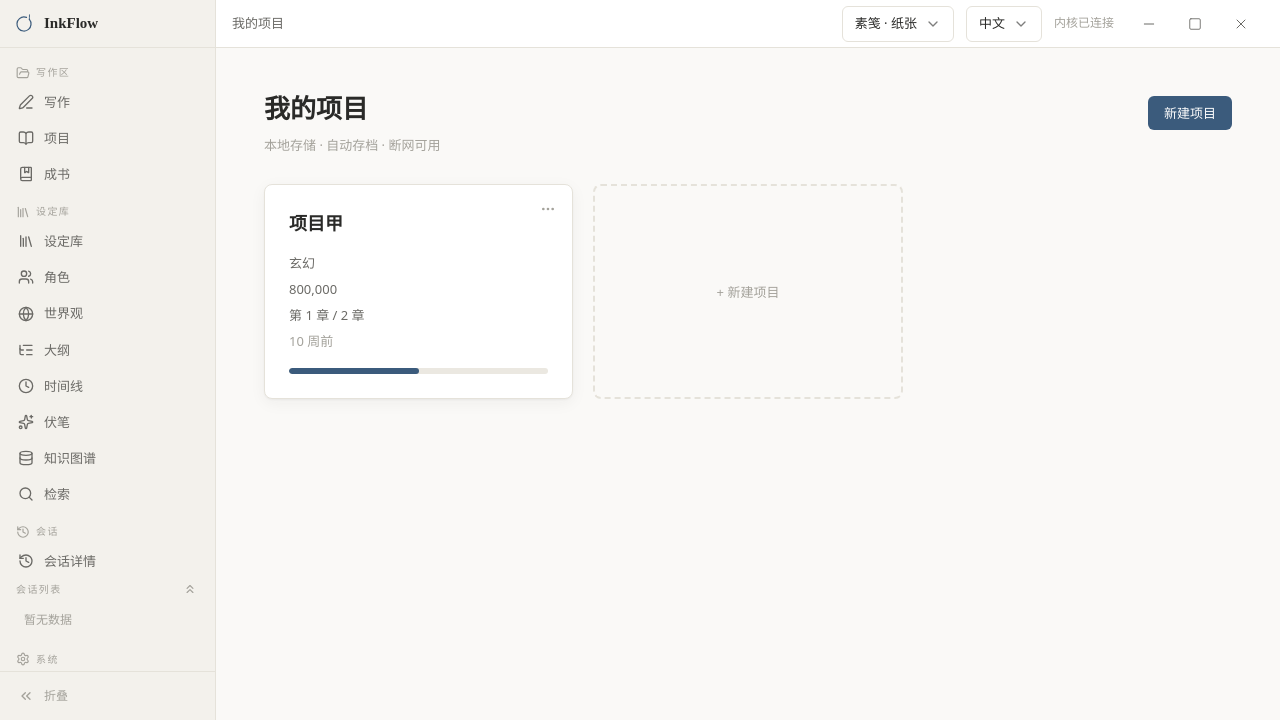
Scenario: App 路由集成（HashRouter 四页 + 侧边导航） › 侧边导航「写作」→ 写作页：三栏 + 项目树卷/章渲染
The image size is (1280, 720).
Note: 写作页挂载后加载当前项目卷章树（契约：写作页挂载自动 loadChapterTree）
Click the link "写作": (44, 102) [18, 93, 70, 111]
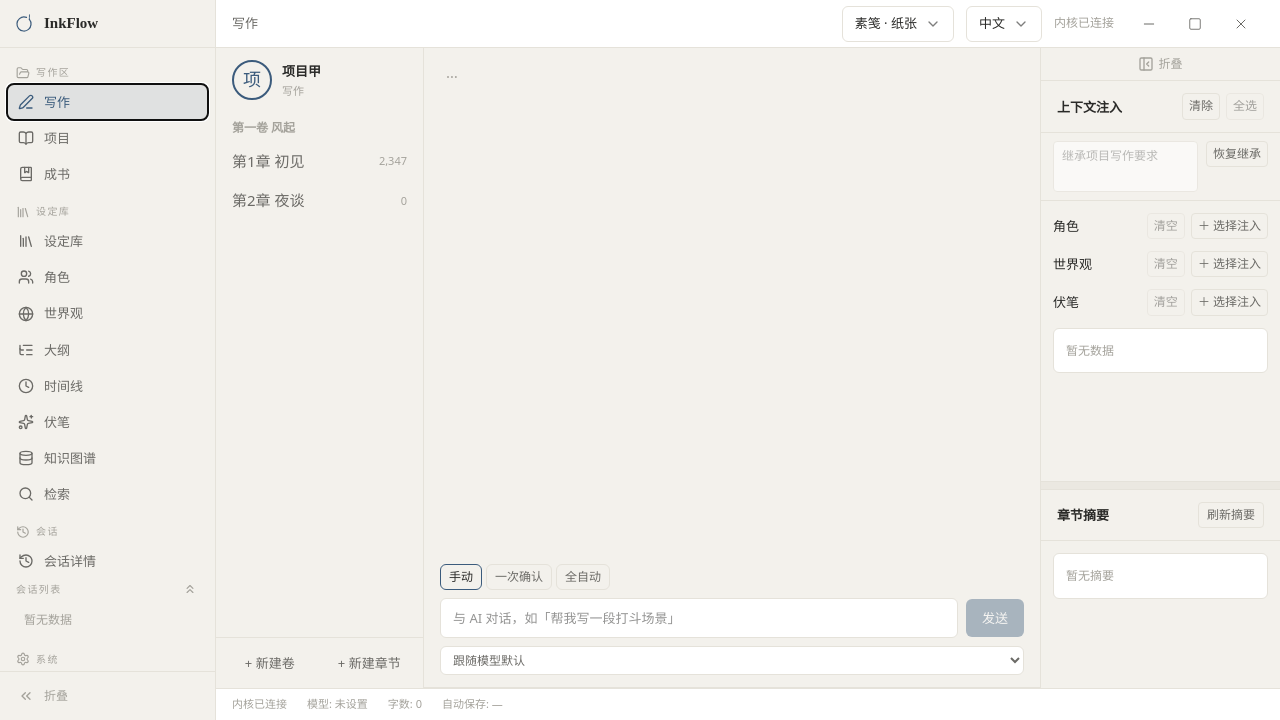
Expected: the element with test id "editor" is shown, [424, 48, 1040, 688]
Expected: the element with test id "project-tree" is shown, [216, 48, 424, 688]
Expected: the element with test id "project-tree" shows "第一卷 风起", [232, 119, 295, 136]
